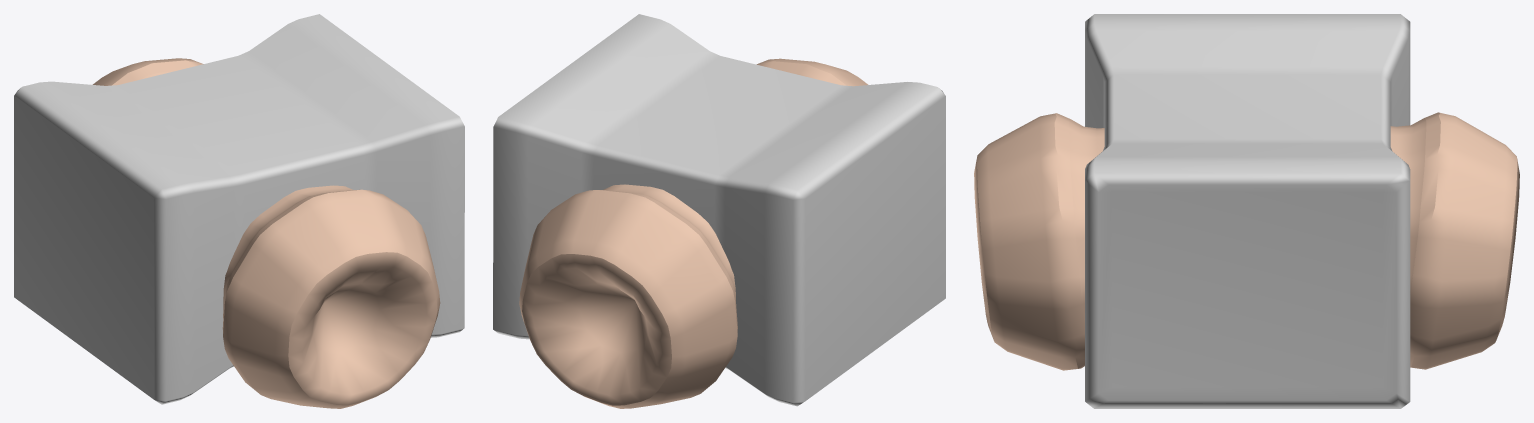
File: M2 Bridge.fbx
3 views of the same model, side by side, from view 1: azimuth 30°, elevation 25°; view 2: azimuth 150°, elevation 25°; view 3: azimuth 270°, elevation 25° (orthographic). The views are drawn at different scales.
Parts seen in each view (by area): view 1: skeletonbridge_Main, skeletonbridge_Side1, skeletonbridge_Side; view 2: skeletonbridge_Main, skeletonbridge_Side, skeletonbridge_Side1; view 3: skeletonbridge_Main, skeletonbridge_Side1, skeletonbridge_Side.
Boxes of the visible parts, x1=… form: skeletonbridge_Main: x1=14, y1=14, x2=464, y2=404; skeletonbridge_Side1: x1=222, y1=185, x2=440, y2=408; skeletonbridge_Side: x1=92, y1=58, x2=203, y2=85; skeletonbridge_Main: x1=493, y1=14, x2=945, y2=406; skeletonbridge_Side: x1=519, y1=184, x2=737, y2=408; skeletonbridge_Side1: x1=756, y1=58, x2=868, y2=86; skeletonbridge_Main: x1=1085, y1=14, x2=1410, y2=408; skeletonbridge_Side1: x1=974, y1=113, x2=1104, y2=370; skeletonbridge_Side: x1=1390, y1=112, x2=1519, y2=369.
Size of the model in its own units: 549 by 408 by 767.
